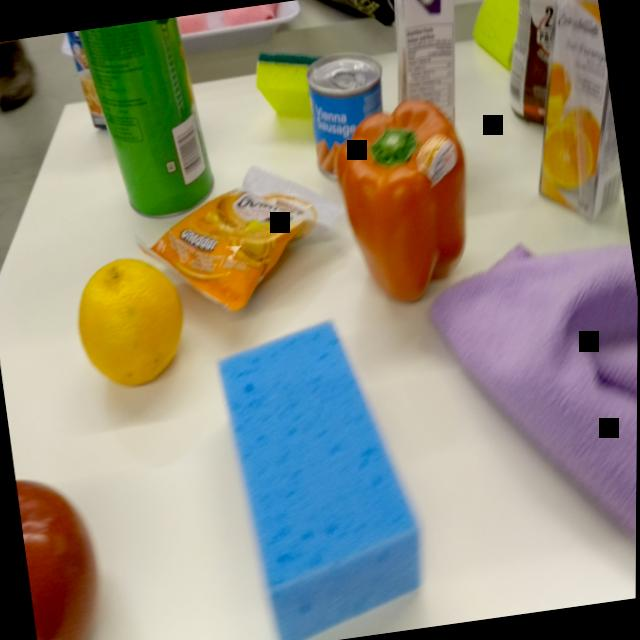crackers: (141, 161, 355, 332)
grape_juice: (376, 0, 479, 138)
orange: (64, 244, 199, 403)
orange_juice: (506, 0, 629, 232)
paprika: (324, 88, 493, 318)
sausages: (301, 46, 396, 183)
scrubby: (248, 36, 318, 131)
sponge_opl: (204, 303, 445, 640)
